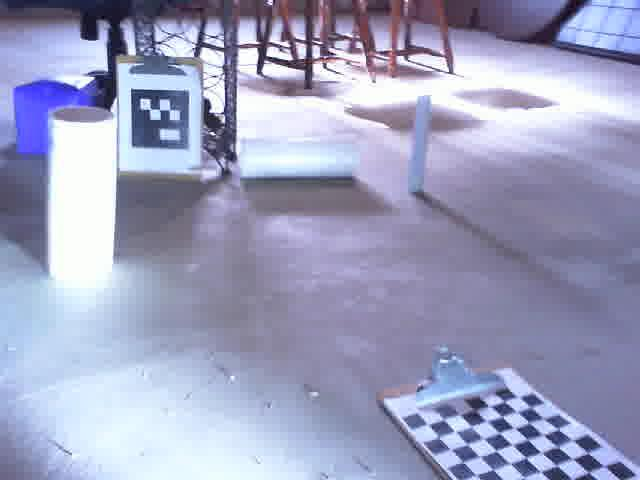coral: (43, 103, 121, 289), (234, 133, 363, 182)
